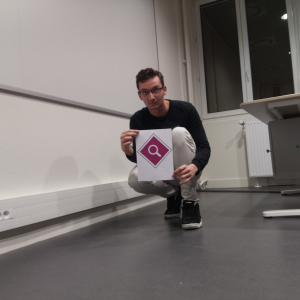search: (138, 134, 172, 167)
